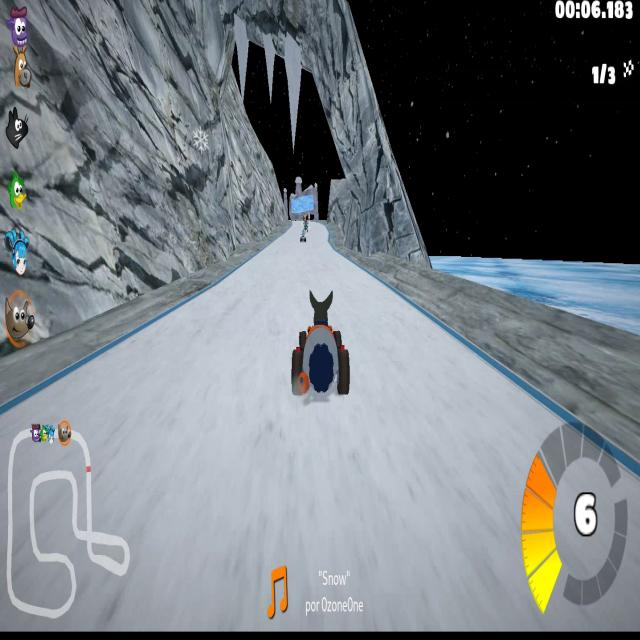player_kart: (289, 292, 352, 408)
track: (0, 412, 638, 639), (101, 326, 289, 409), (396, 338, 509, 415), (355, 291, 396, 413), (204, 289, 289, 325), (270, 244, 308, 286), (310, 225, 332, 293), (235, 264, 272, 291), (334, 262, 369, 285), (287, 222, 296, 243), (296, 219, 304, 227)
